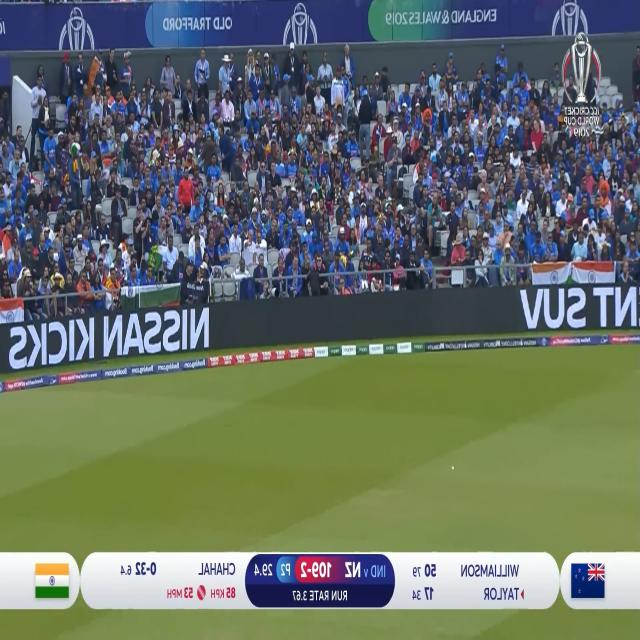ball: (448, 462, 458, 476)
